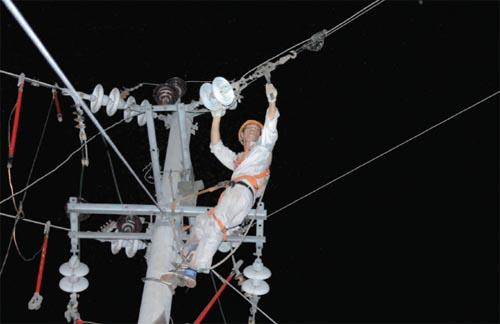boots: (160, 266, 196, 287)
gloves: (264, 83, 278, 102), (210, 106, 226, 117)
hard-hat: (238, 118, 264, 144)
person: (160, 82, 281, 288)
